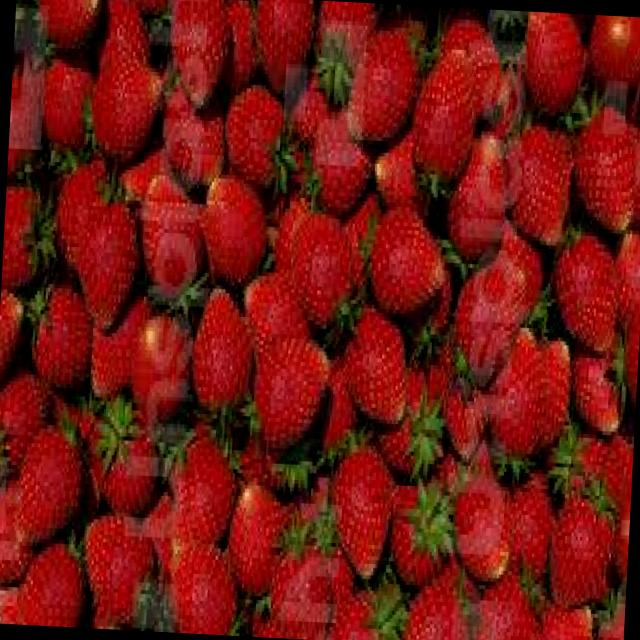strawberry: (402, 26, 485, 202), (239, 315, 334, 464), (544, 462, 624, 630), (77, 158, 143, 353), (8, 395, 84, 554), (180, 280, 254, 441), (72, 510, 168, 630), (540, 229, 620, 371), (77, 46, 178, 156), (327, 423, 395, 582), (351, 198, 439, 316), (478, 330, 544, 487), (501, 124, 572, 255), (576, 93, 640, 234), (332, 314, 410, 426)
